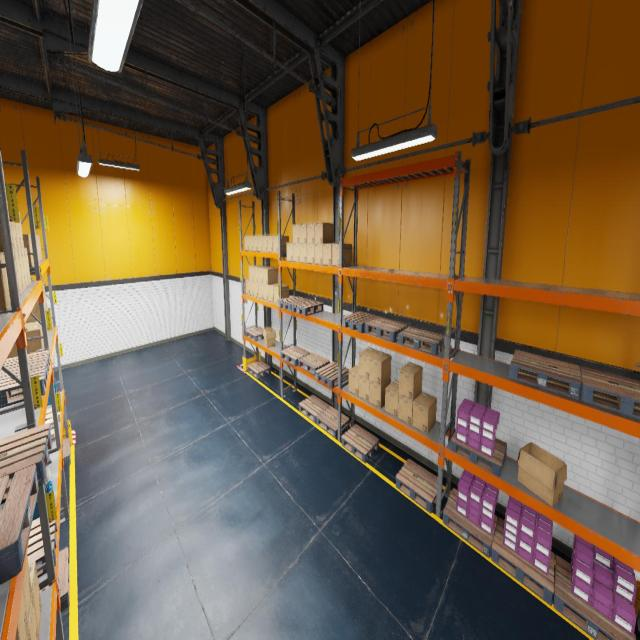box: (517, 442, 567, 507), (7, 324, 44, 358), (28, 561, 42, 637), (412, 392, 437, 434), (399, 362, 423, 401), (398, 392, 421, 426), (369, 352, 391, 386), (369, 378, 391, 408), (359, 348, 379, 380), (23, 554, 32, 625), (0, 253, 11, 311), (16, 588, 28, 640), (385, 380, 399, 418), (28, 592, 39, 640), (25, 321, 44, 348), (332, 244, 352, 266), (0, 222, 14, 251), (314, 223, 334, 243), (22, 234, 34, 266), (25, 299, 41, 323), (348, 364, 359, 396), (15, 251, 23, 293), (18, 249, 26, 290), (273, 284, 289, 304), (358, 375, 369, 402), (268, 283, 282, 302), (14, 251, 20, 295), (263, 327, 276, 347), (273, 236, 289, 252), (24, 248, 31, 284), (263, 268, 278, 284), (18, 211, 24, 249), (22, 249, 28, 287), (45, 413, 58, 430), (323, 243, 333, 265), (258, 267, 271, 283), (253, 266, 266, 282), (249, 265, 262, 281), (11, 222, 18, 251), (15, 222, 21, 250), (314, 244, 322, 264), (307, 223, 314, 243), (307, 244, 314, 263), (293, 243, 300, 262), (46, 412, 60, 421), (30, 234, 34, 264), (300, 224, 306, 243), (293, 224, 299, 243), (287, 242, 293, 261), (300, 244, 306, 262), (36, 234, 40, 260), (37, 235, 41, 260), (42, 285, 46, 310), (38, 235, 42, 259), (267, 236, 273, 252), (262, 236, 268, 252), (252, 236, 258, 251), (45, 314, 49, 336), (263, 284, 268, 300), (258, 282, 263, 298), (245, 279, 250, 295), (47, 305, 50, 331), (244, 236, 249, 250), (43, 287, 46, 310), (254, 282, 258, 297), (250, 281, 254, 296), (258, 236, 262, 251), (249, 236, 253, 251), (51, 429, 55, 442), (47, 308, 49, 334), (46, 408, 52, 414), (27, 627, 30, 639)
pallets: (553, 556, 636, 640), (491, 518, 555, 605), (0, 465, 39, 584), (0, 422, 52, 503), (442, 488, 498, 558), (509, 350, 582, 400), (580, 367, 640, 419), (450, 432, 507, 476), (396, 458, 437, 512), (0, 363, 48, 408), (40, 548, 69, 612), (27, 517, 57, 578), (341, 424, 379, 463), (398, 327, 445, 356), (0, 350, 50, 376), (316, 406, 350, 438), (365, 317, 408, 342), (315, 362, 350, 388), (299, 395, 330, 423), (342, 311, 380, 333), (298, 352, 330, 376), (281, 346, 310, 366), (292, 300, 324, 316), (278, 296, 309, 311), (247, 360, 271, 378), (245, 326, 264, 342), (62, 438, 70, 467)
